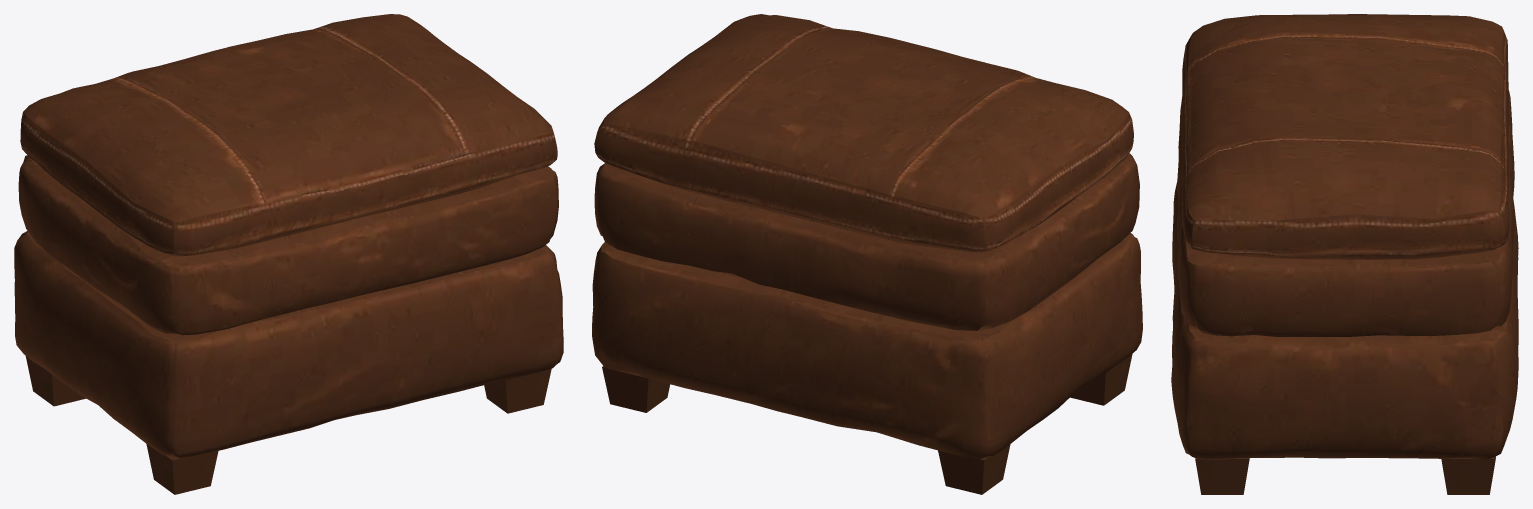
Rendered from ottoman.glb.
3 views of the same model, side by side, from view 1: azimuth 30°, elevation 25°; view 2: azimuth 150°, elevation 25°; view 3: azimuth 270°, elevation 25° (orthographic).
Visible parts, largest first — view 1: Ottoman_01; view 2: Ottoman_01; view 3: Ottoman_01.
Part boxes in pixels (x1,y1,x2,y2): Ottoman_01: [14, 14, 563, 494]; Ottoman_01: [592, 14, 1142, 494]; Ottoman_01: [1171, 14, 1518, 494].
Size of the model in its own units: 0.8846 by 0.6243 by 0.6212.
1 material, 1 textured.
